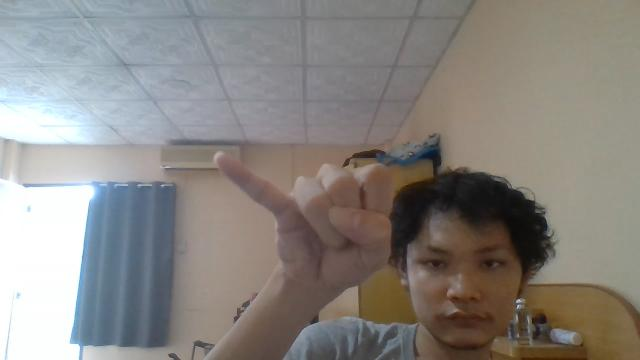Right: (210, 147, 394, 293)
